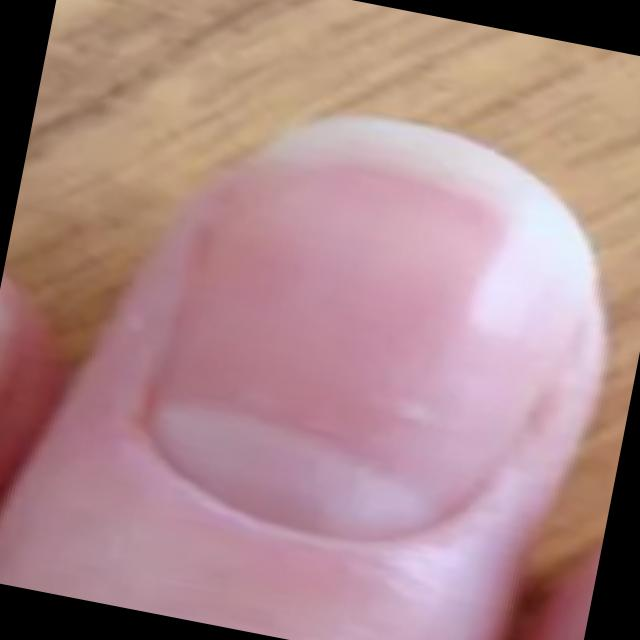Nail: (148, 160, 552, 538)
